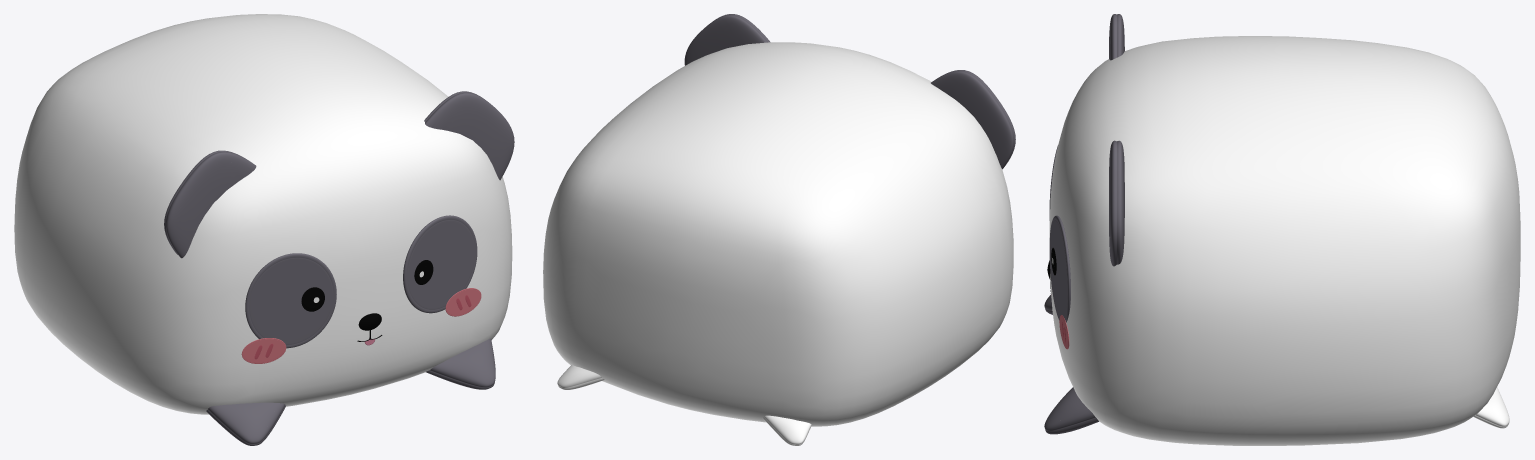
The model's file is pandahairclip.fbx.
The picture shows the model from 3 angles, left to right: view 1: azimuth 30°, elevation 25°; view 2: azimuth 150°, elevation 25°; view 3: azimuth 270°, elevation 25°; orthographic projection. The views are drawn at different scales.
Visible parts, largest first — view 1: body, eye, ear, front-leg, pinkface, eyeball; view 2: body, ear, back-leg; view 3: body, ear, eye, front-leg, back-leg.
Boxes of the visible parts, x1,y1,x2,y2 form: body: (14, 14, 512, 414); eye: (245, 215, 477, 348); ear: (164, 91, 514, 258); front-leg: (206, 338, 495, 445); pinkface: (241, 288, 481, 363); eyeball: (301, 260, 433, 311); body: (543, 42, 1013, 426); ear: (684, 14, 1015, 169); back-leg: (557, 365, 811, 445); body: (1049, 36, 1520, 445); ear: (1109, 14, 1124, 266); eye: (1049, 146, 1070, 322); front-leg: (1044, 295, 1098, 434); back-leg: (1473, 387, 1509, 428).
Size of the model in its own units: 87.84 by 60.52 by 84.75.
1 material, 1 textured.
